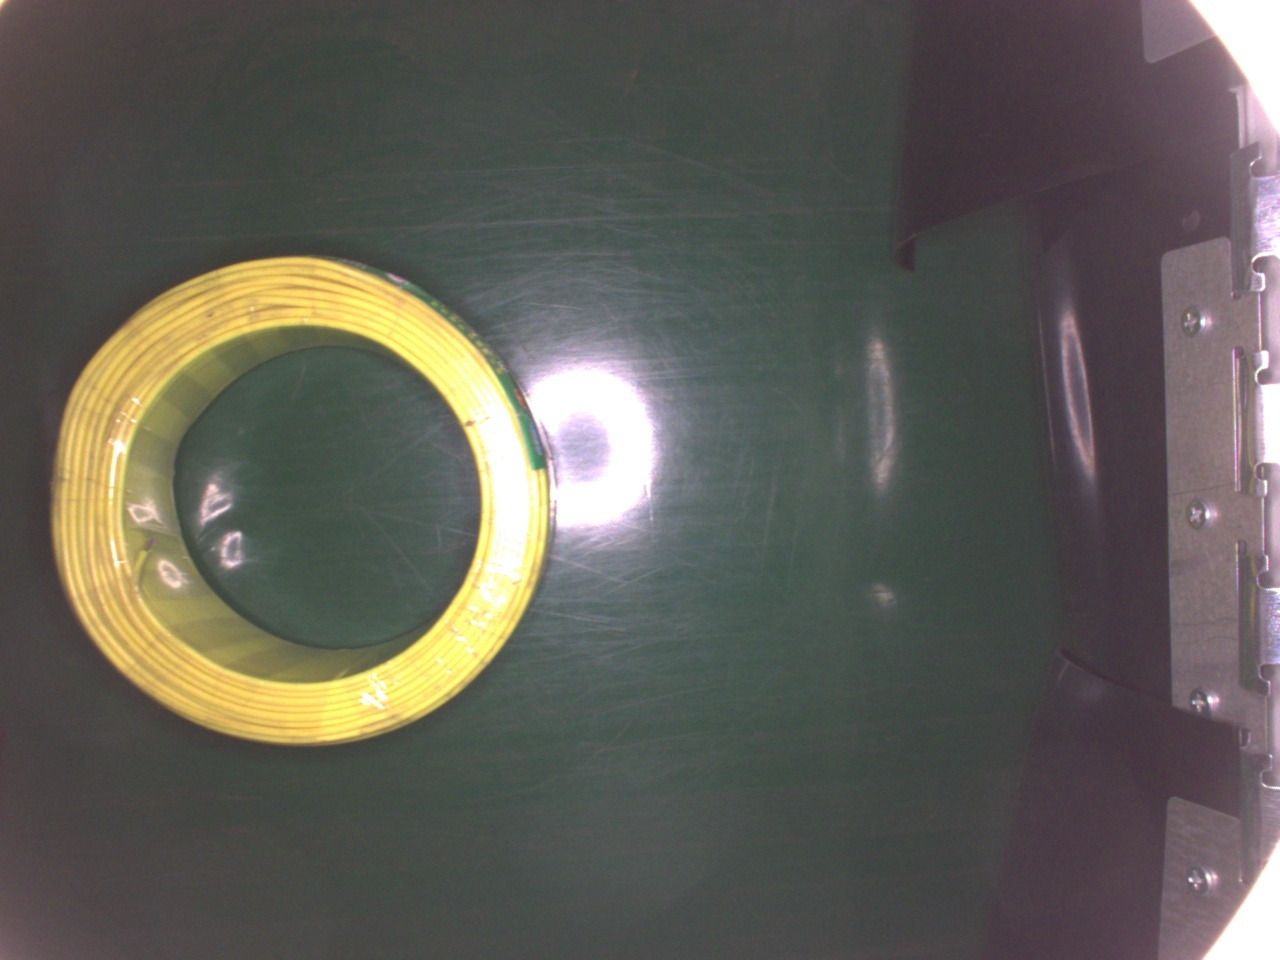yellow: (46, 254, 564, 751)
